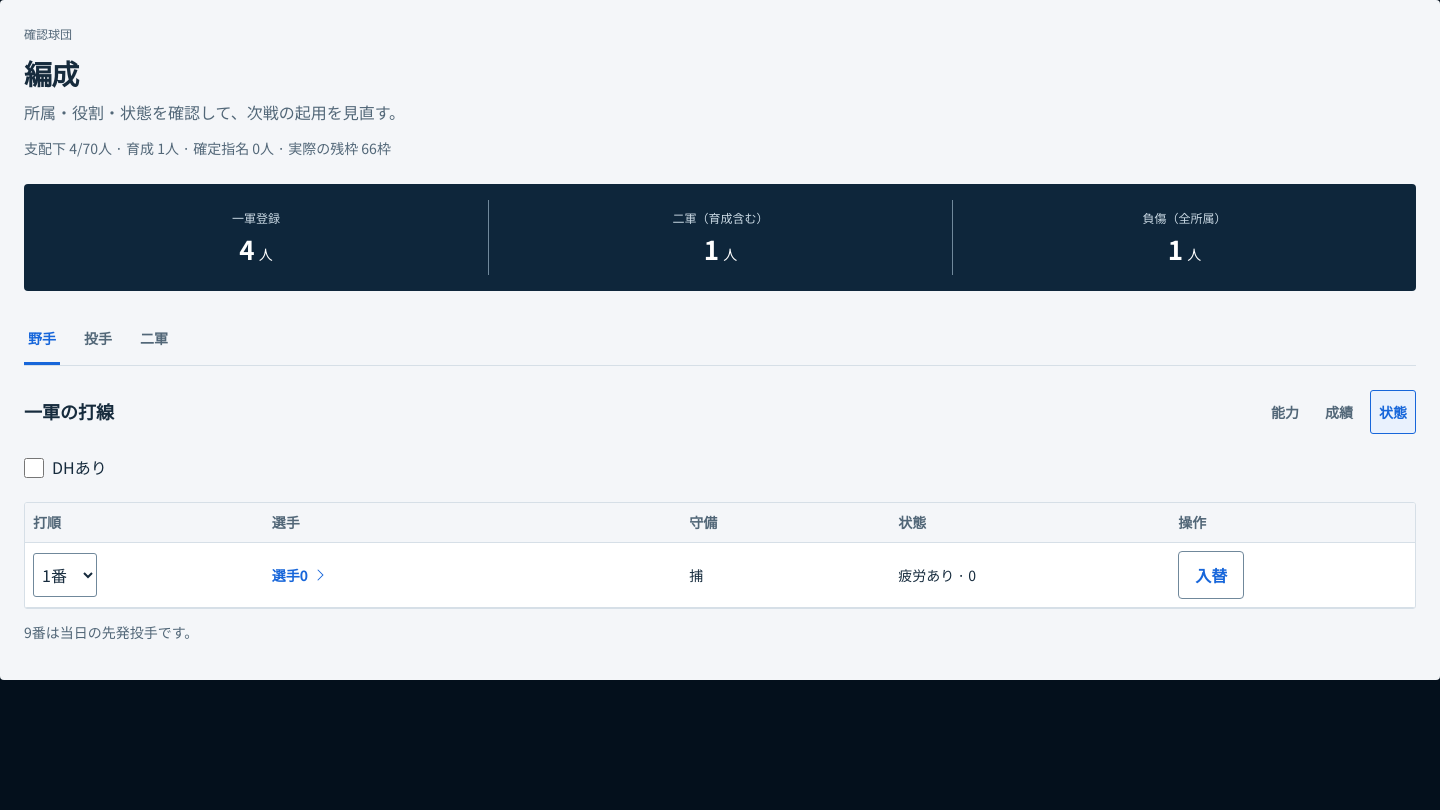
Scenario: presents first/farm affiliation, roles and record scope in a labelled table
Click the button "二軍". click: (154,340)
box: [136,315,172,364]
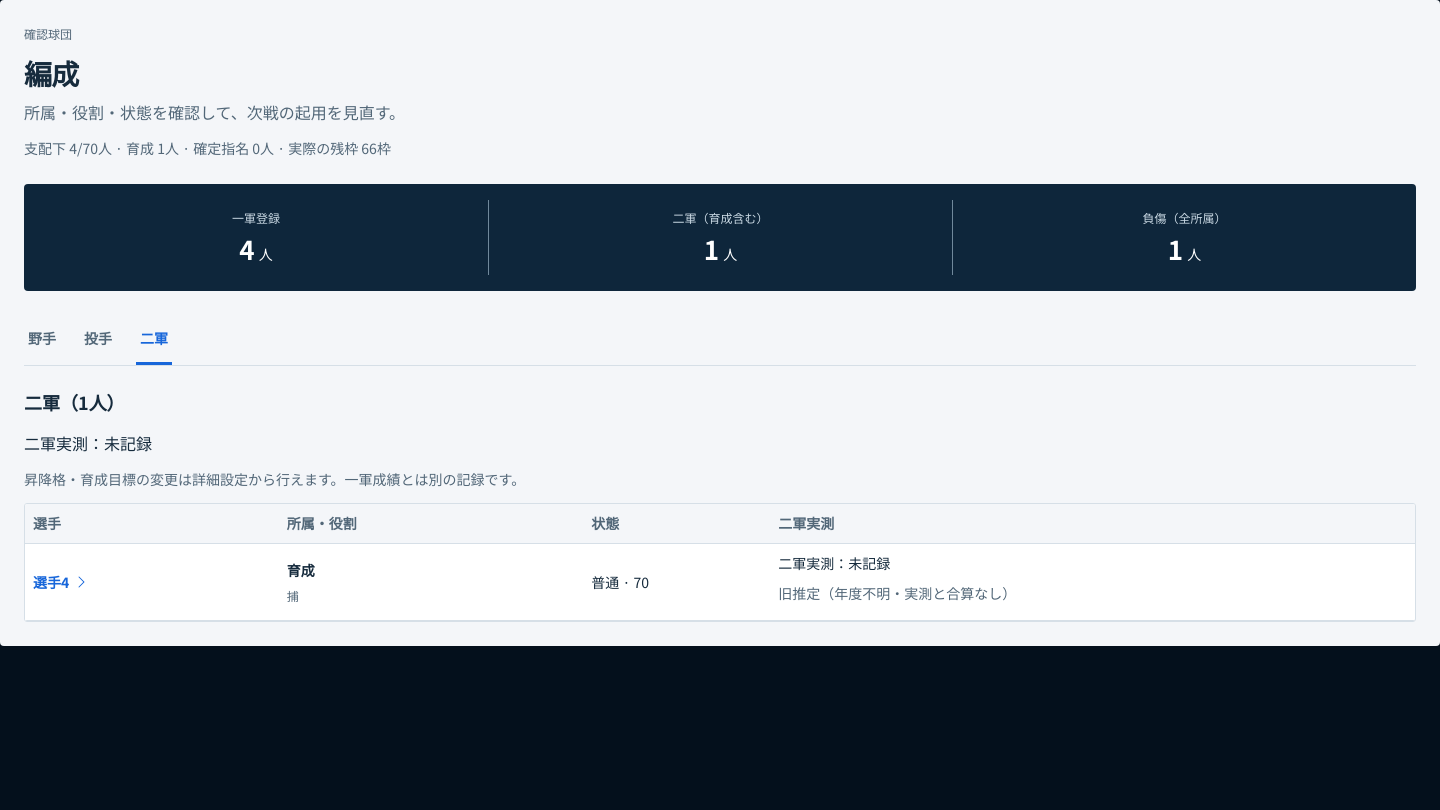
Expected: the text "育成" is shown, [98,138,157,158]
Now the text "二軍実測" is shown, box [24,431,152,455]
